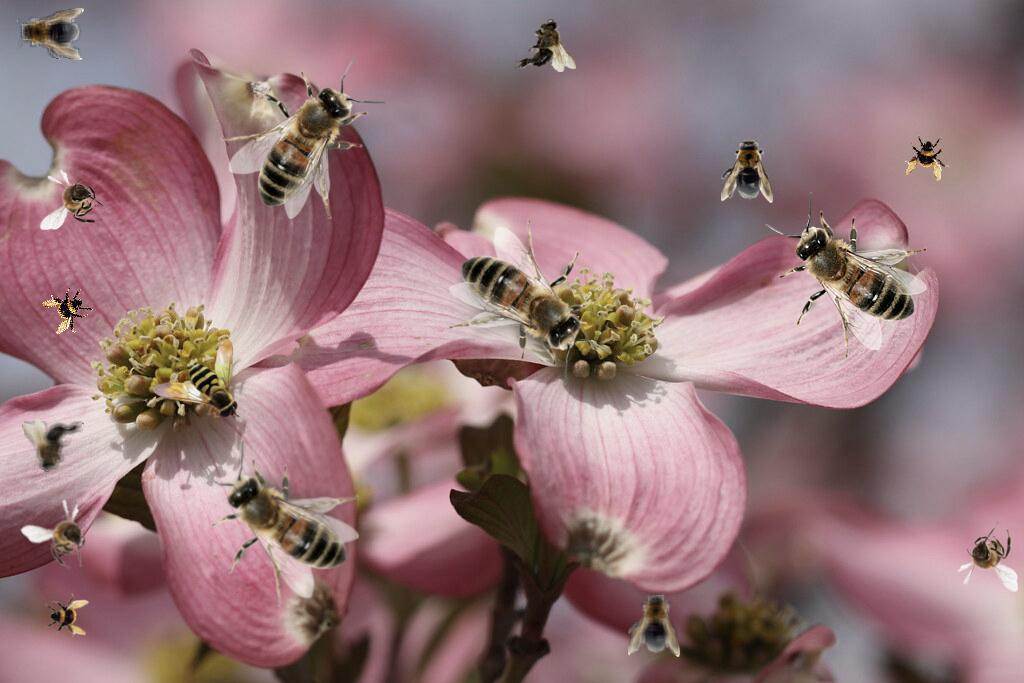Bee: (765, 192, 927, 359), (220, 57, 387, 219), (449, 218, 611, 385), (197, 440, 359, 607), (19, 488, 112, 582), (152, 339, 240, 421), (957, 522, 1018, 592), (40, 169, 110, 230), (37, 280, 99, 342), (16, 8, 84, 60), (721, 135, 773, 203), (628, 589, 680, 657), (22, 419, 84, 472), (514, 19, 576, 72), (903, 133, 953, 183), (45, 593, 89, 637)
